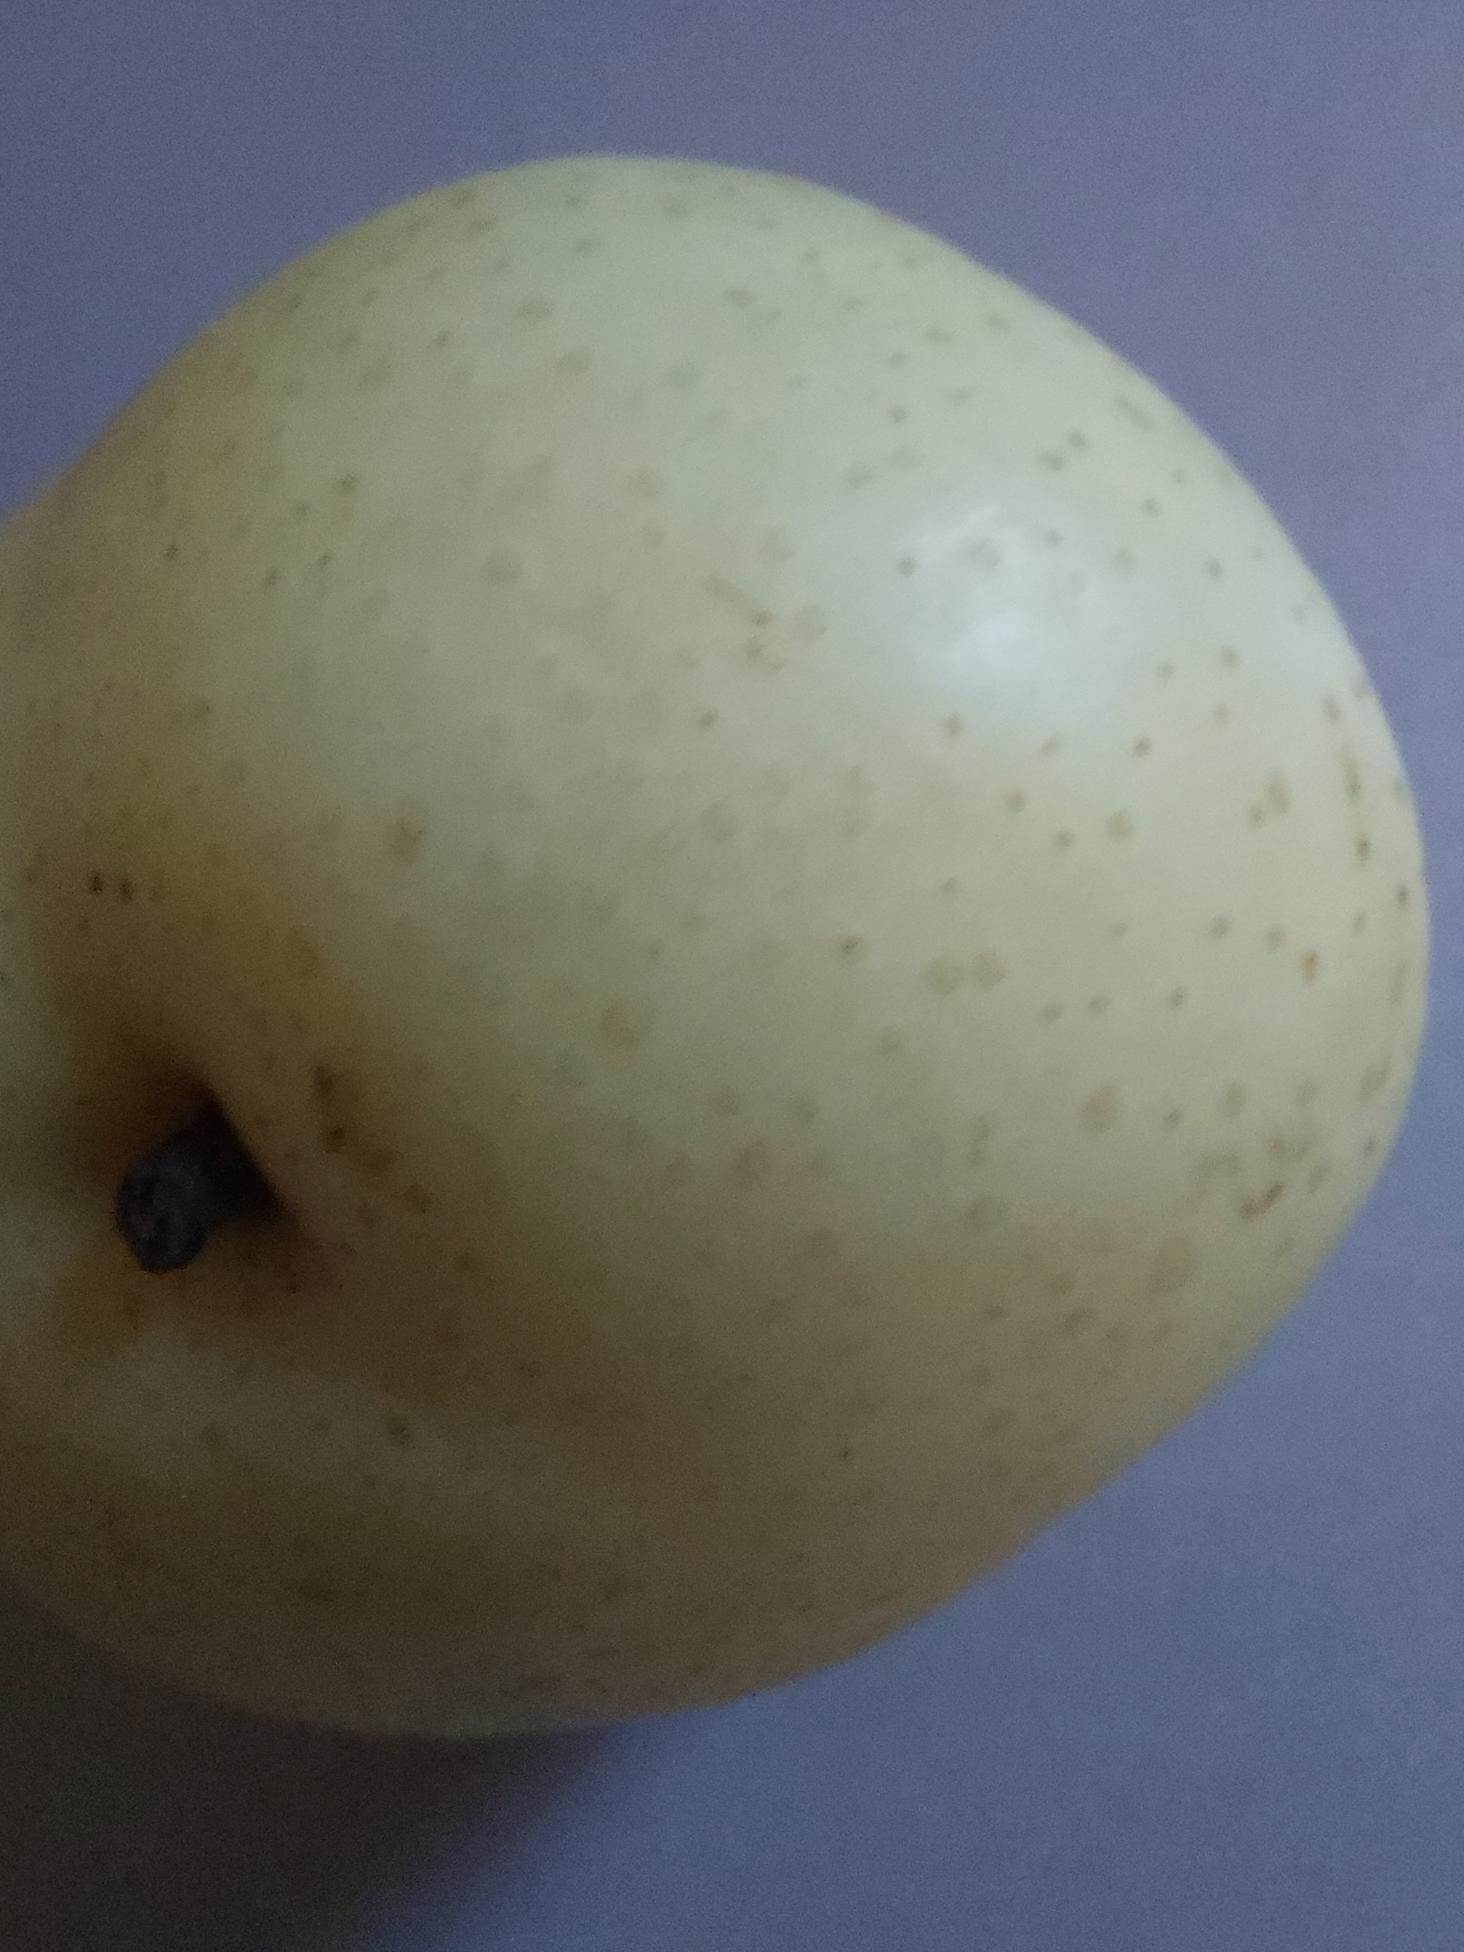Good Pear: (0, 148, 1436, 1774)
